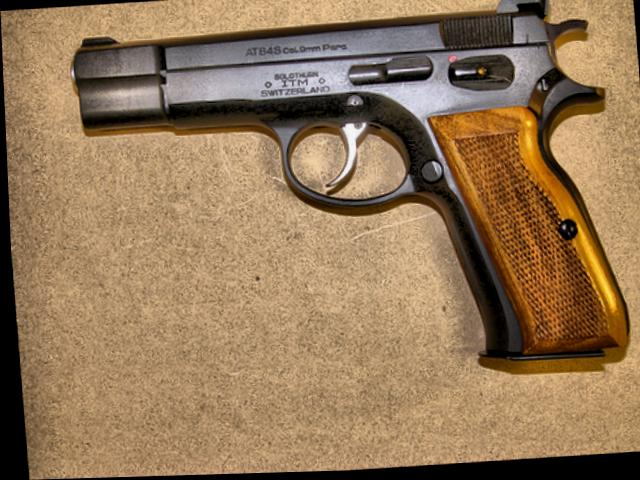pistol: (64, 0, 625, 391)
